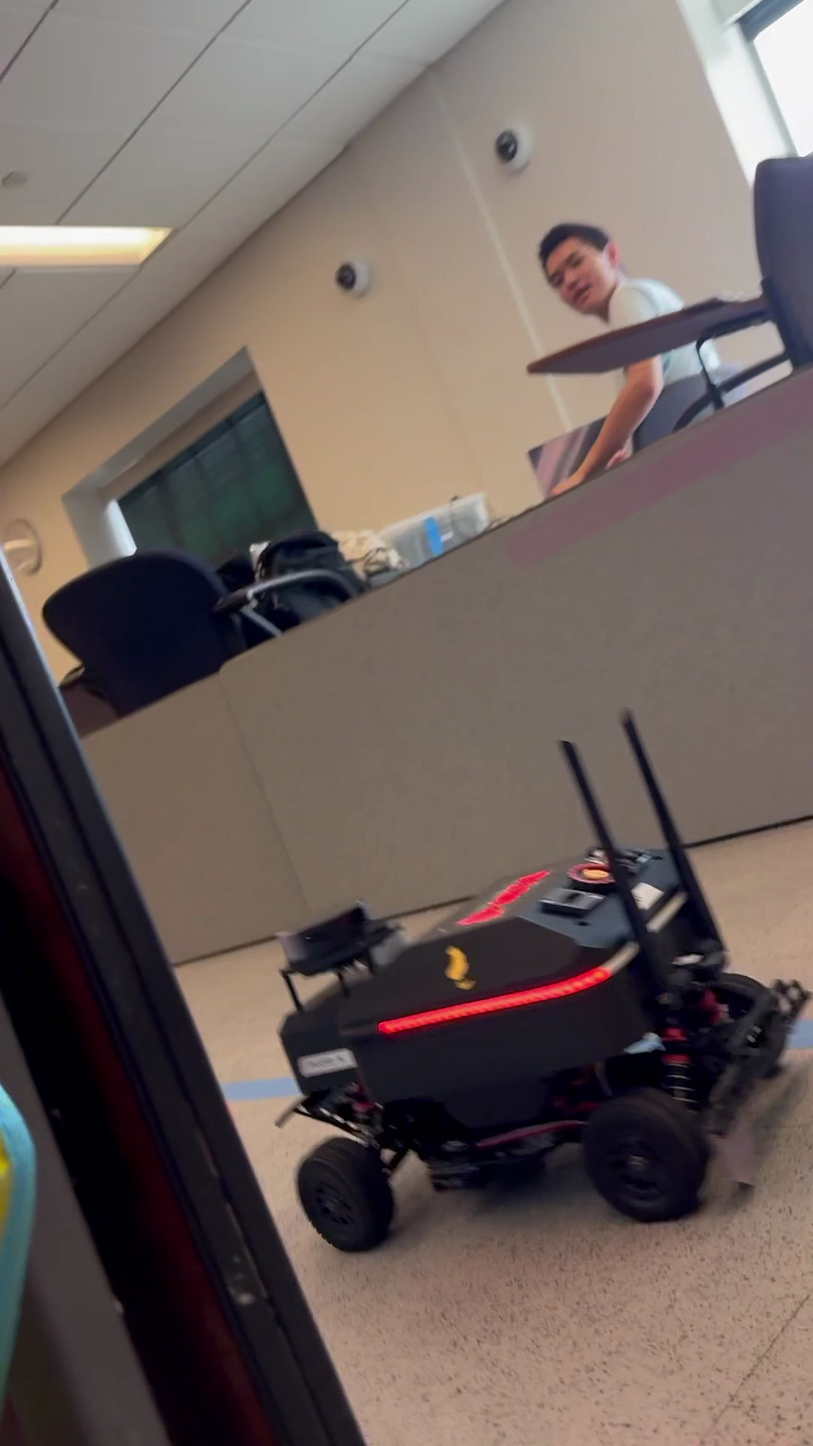racecar: (271, 704, 806, 1255)
